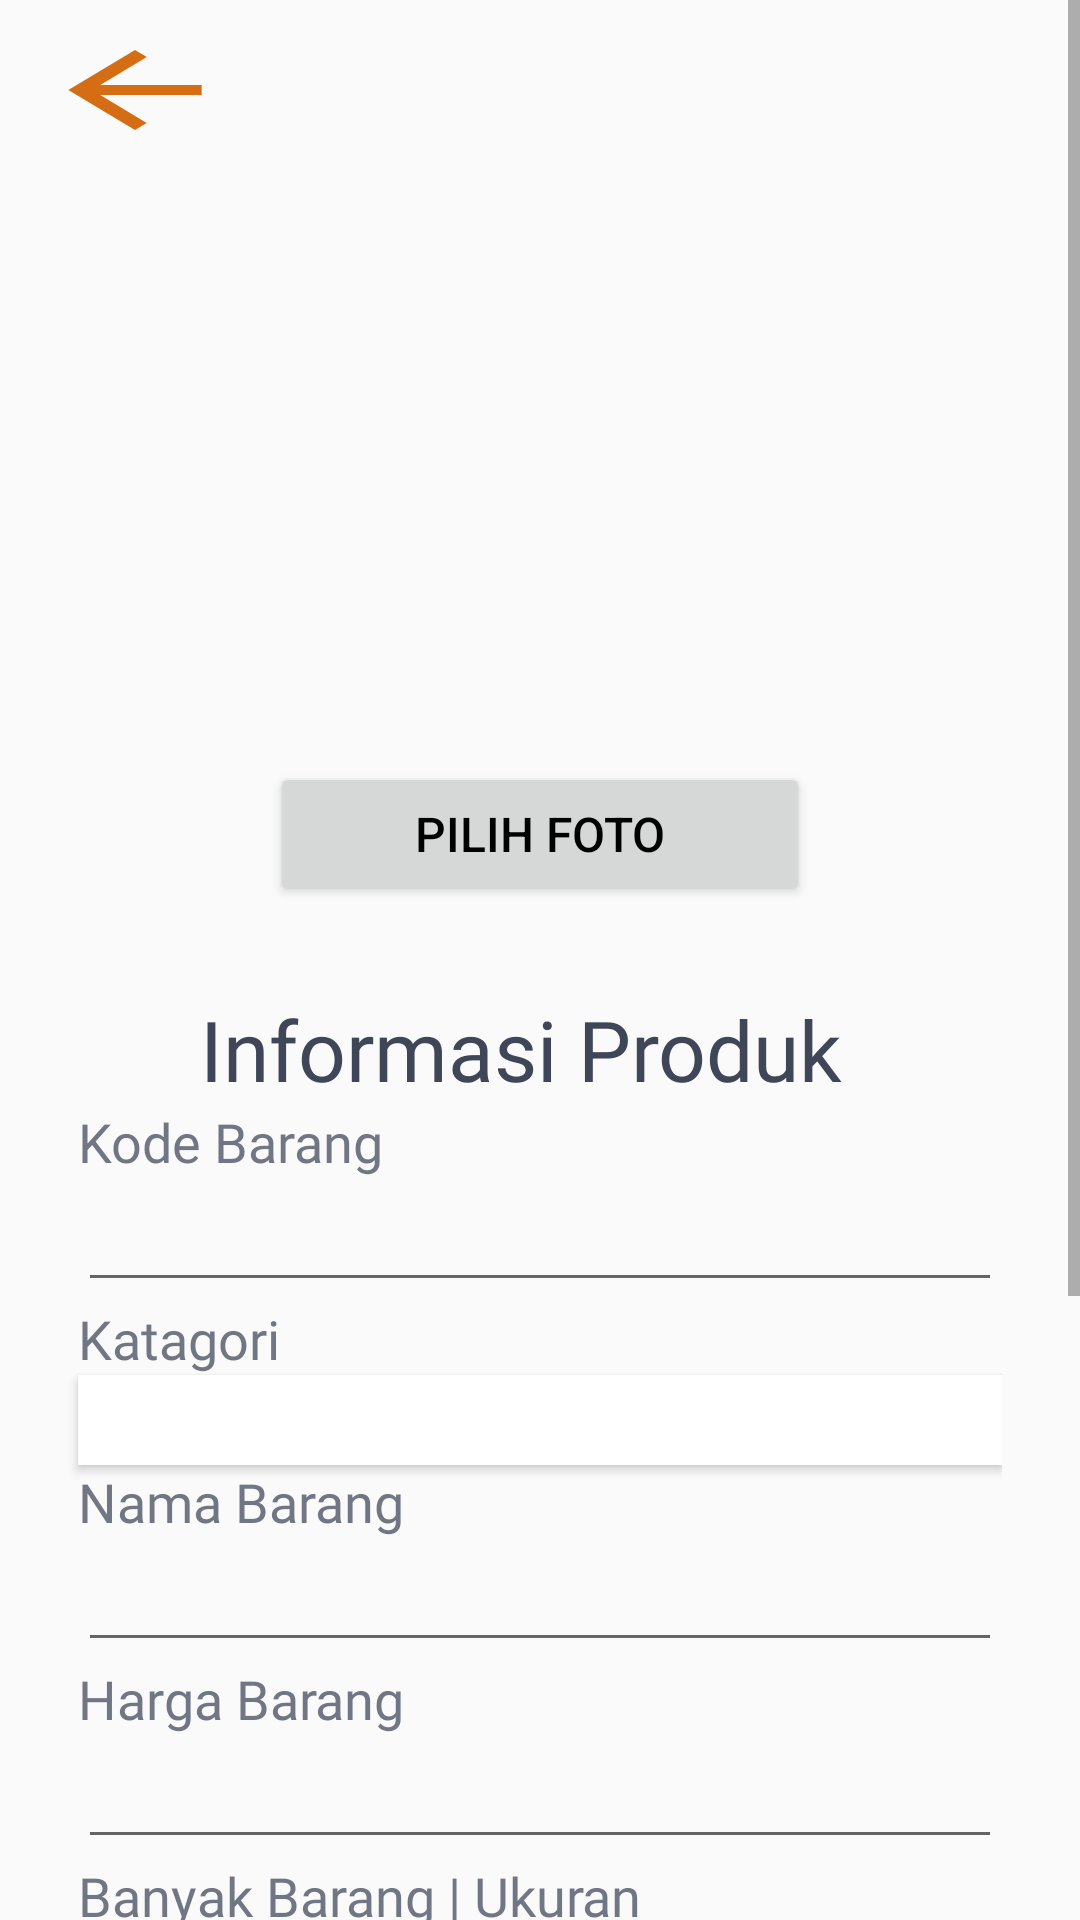

Where to tap for icons on this 1080 × 1920 app screen, as (x=x, y=y):
arrow back: (x=135, y=90)
